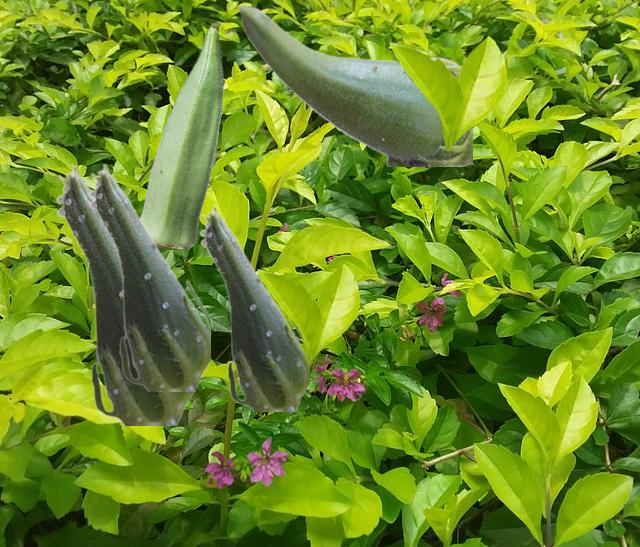okra: (237, 4, 471, 165), (55, 164, 193, 424), (88, 163, 209, 390), (199, 205, 308, 410), (140, 26, 222, 248)
